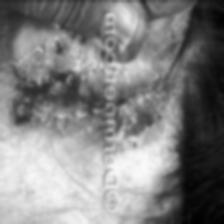Non-Cancerous Skin Condition: (11, 51, 164, 143)
